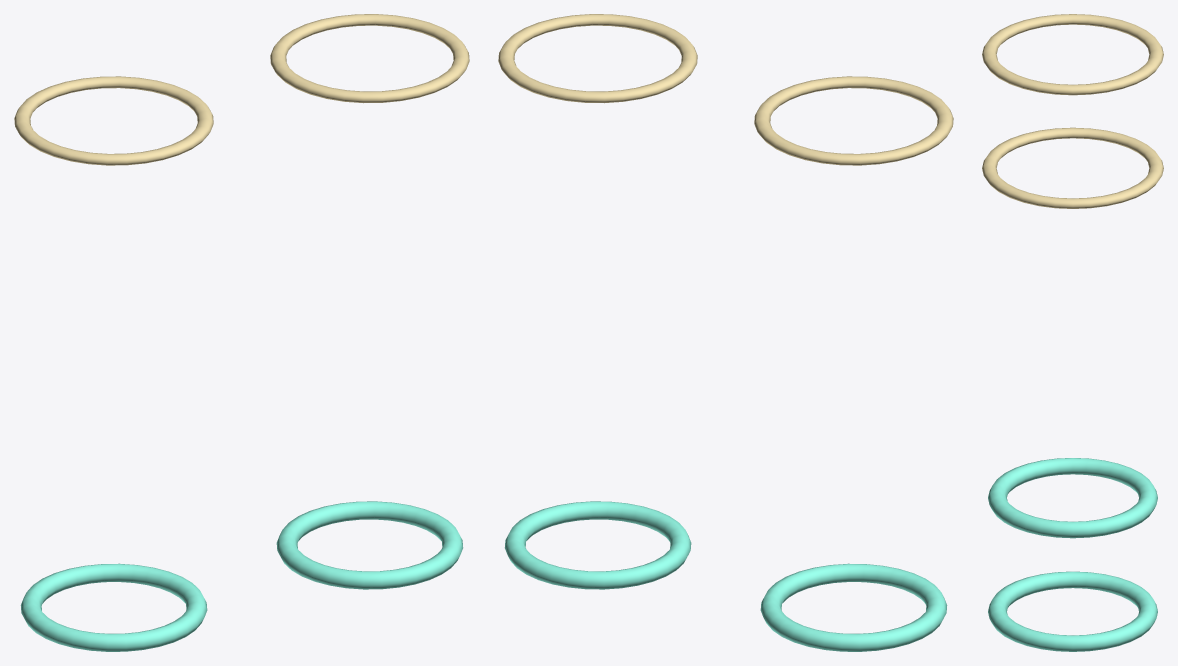
File: kira_right.glb
3 renders of one model, left to right at view 1: azimuth 30°, elevation 25°; view 2: azimuth 150°, elevation 25°; view 3: azimuth 270°, elevation 25°, orthographic. The views are drawn at different scales.
Visible parts, largest first — view 1: kira_right; view 2: kira_right; view 3: kira_right.
Part boxes in pixels (x1,y1,x2,y2): kira_right: (14, 14, 469, 651); kira_right: (498, 14, 953, 651); kira_right: (982, 14, 1163, 651).
Bounding box in the file's own units: 0.2766 × 0.3082 × 0.1116.
